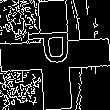P_E: (29, 35, 81, 75)
